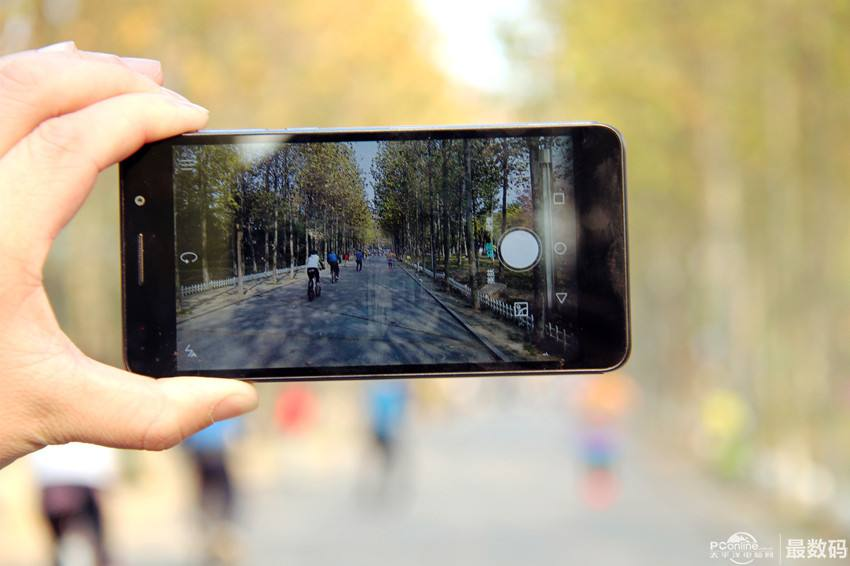taking photos: (4, 39, 638, 460)
